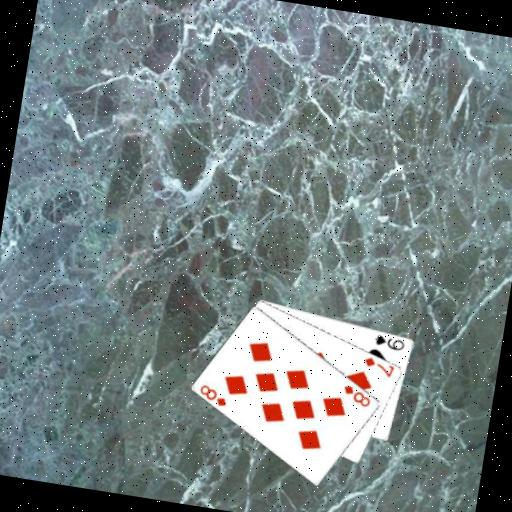7D: (359, 353, 396, 379)
8D: (338, 381, 374, 409), (195, 381, 231, 409)
9S: (371, 331, 407, 353)
